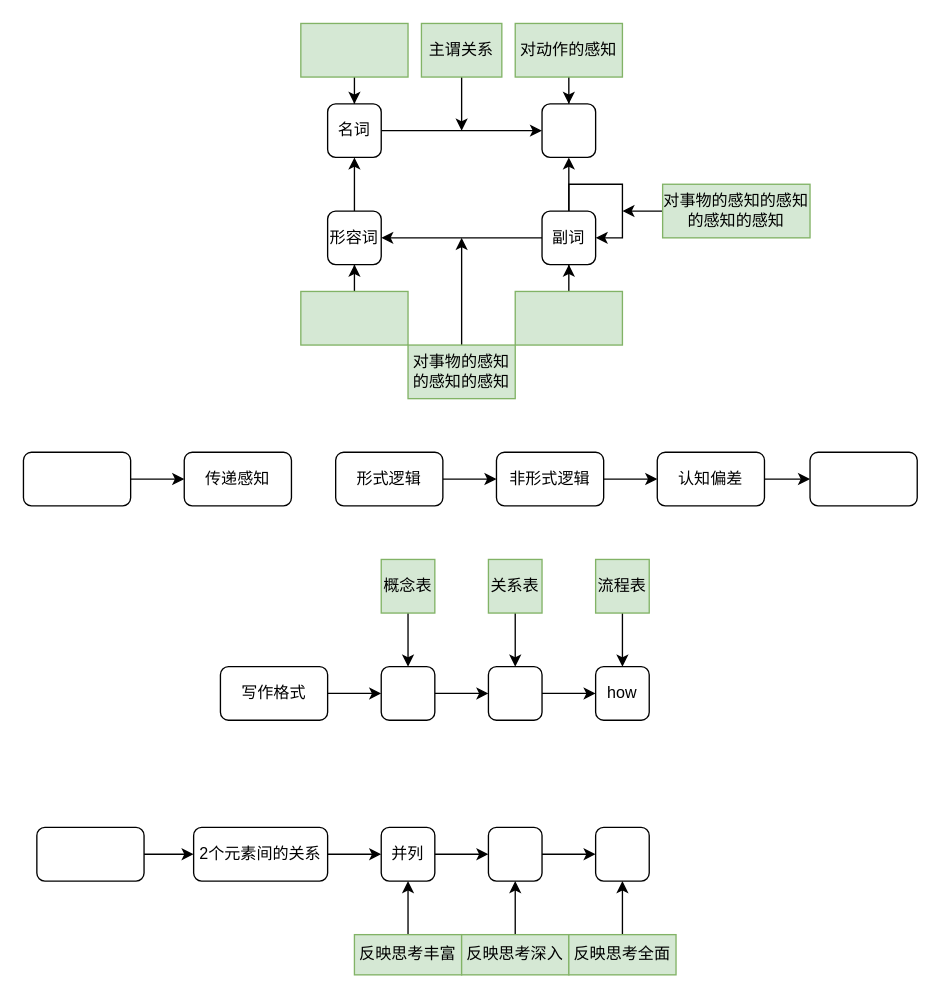
Image size: 941x998. Some labels were removed from this diagram. Each missing label, with the centre of its shape:
"what" belongs at (407,692).
"why" belongs at (514,692).
"动词" belongs at (568,130).
"对事物的感知" belongs at (353,49).
"对事物的感知的感知" belongs at (353,317).
"对动作的感知的感知" belongs at (568,317).
"现代科学" belongs at (863,478).
"记录感知" belongs at (76,478).
"转折" belongs at (621,853).
"递进" belongs at (514,853).
"逻辑模板" belongs at (90,853).
